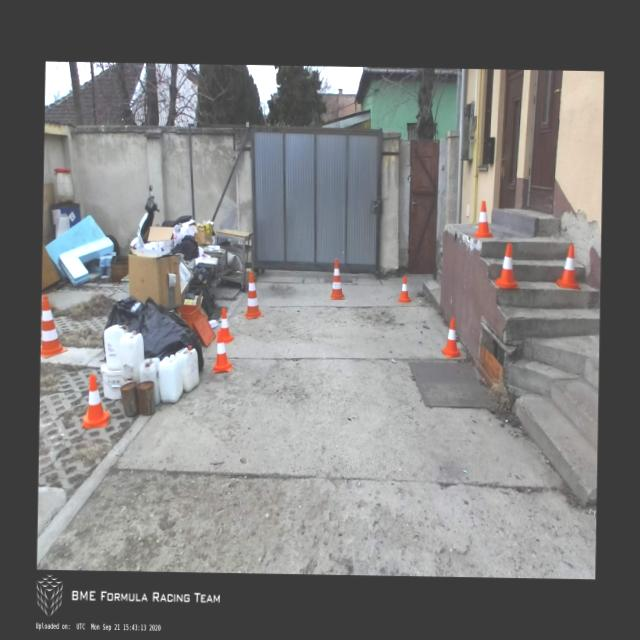large_orange_cone: (40, 296, 68, 358), (242, 272, 264, 319), (329, 257, 345, 301)
orange_cone: (82, 374, 110, 428), (494, 242, 520, 287), (556, 244, 580, 288), (212, 330, 232, 374), (440, 318, 462, 358), (473, 199, 492, 238), (214, 308, 234, 344), (398, 275, 412, 302)
